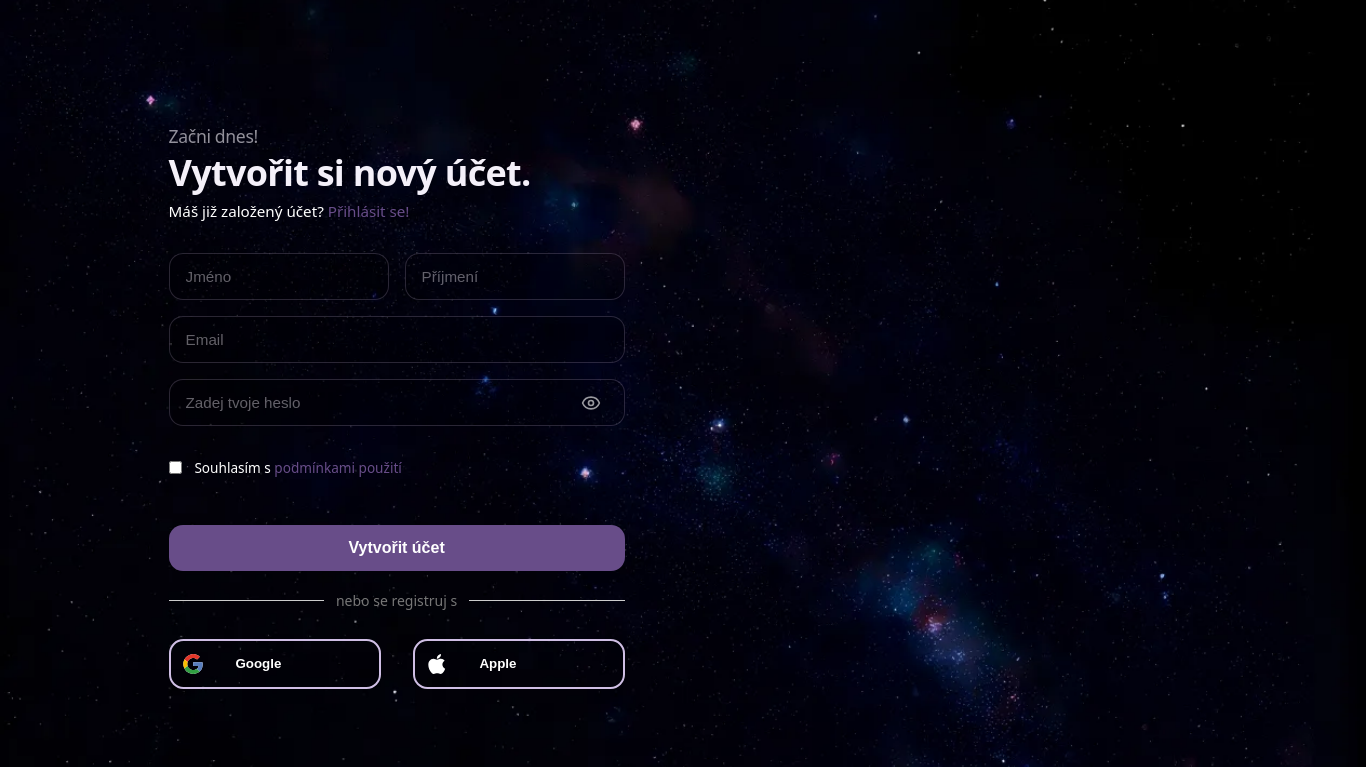
RegisterForm › shows error for invalid email
The image size is (1366, 767).
Type "Jan" into the field with placeholder "Jméno".
click(279, 277); type("Jan")  # box [169, 253, 389, 300]
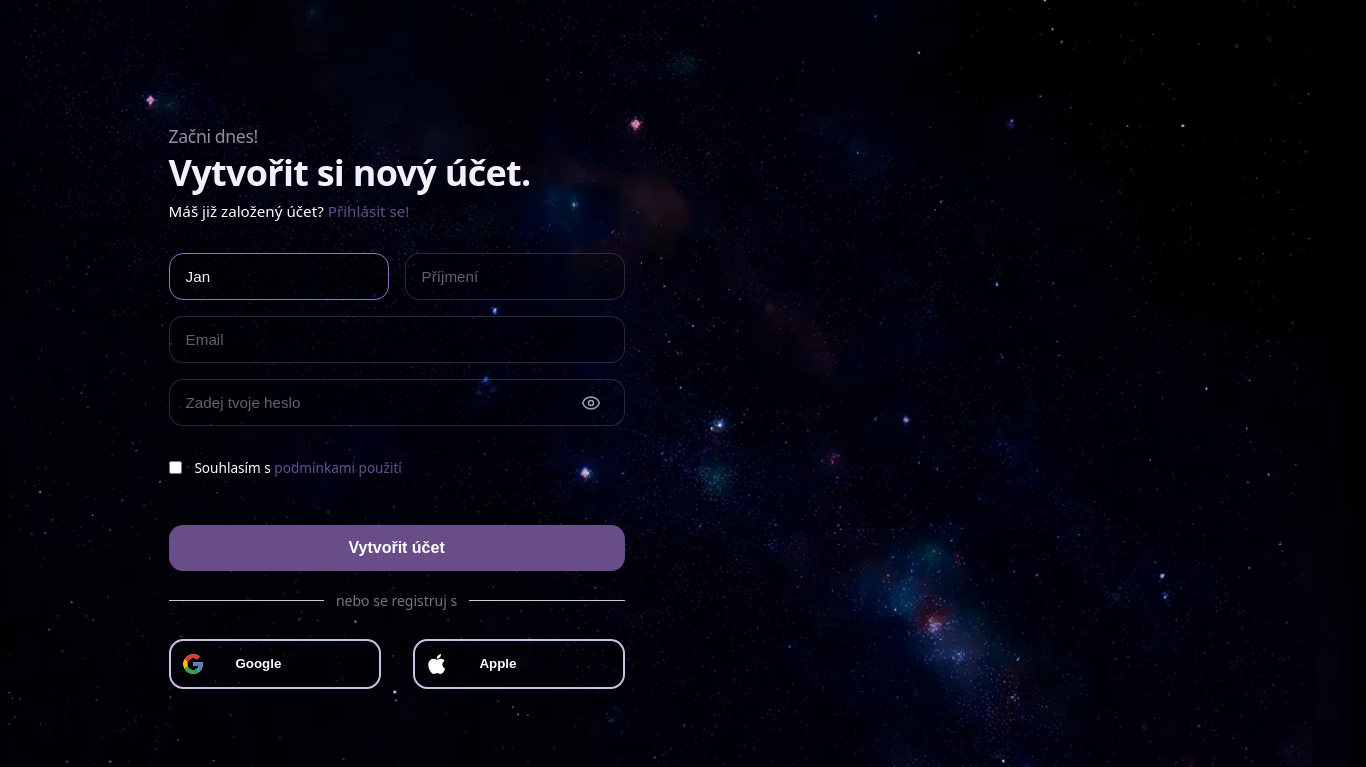
Type "Novák" into the field with placeholder "Příjmení".
click(515, 277); type("Novák")  # box [405, 253, 625, 300]
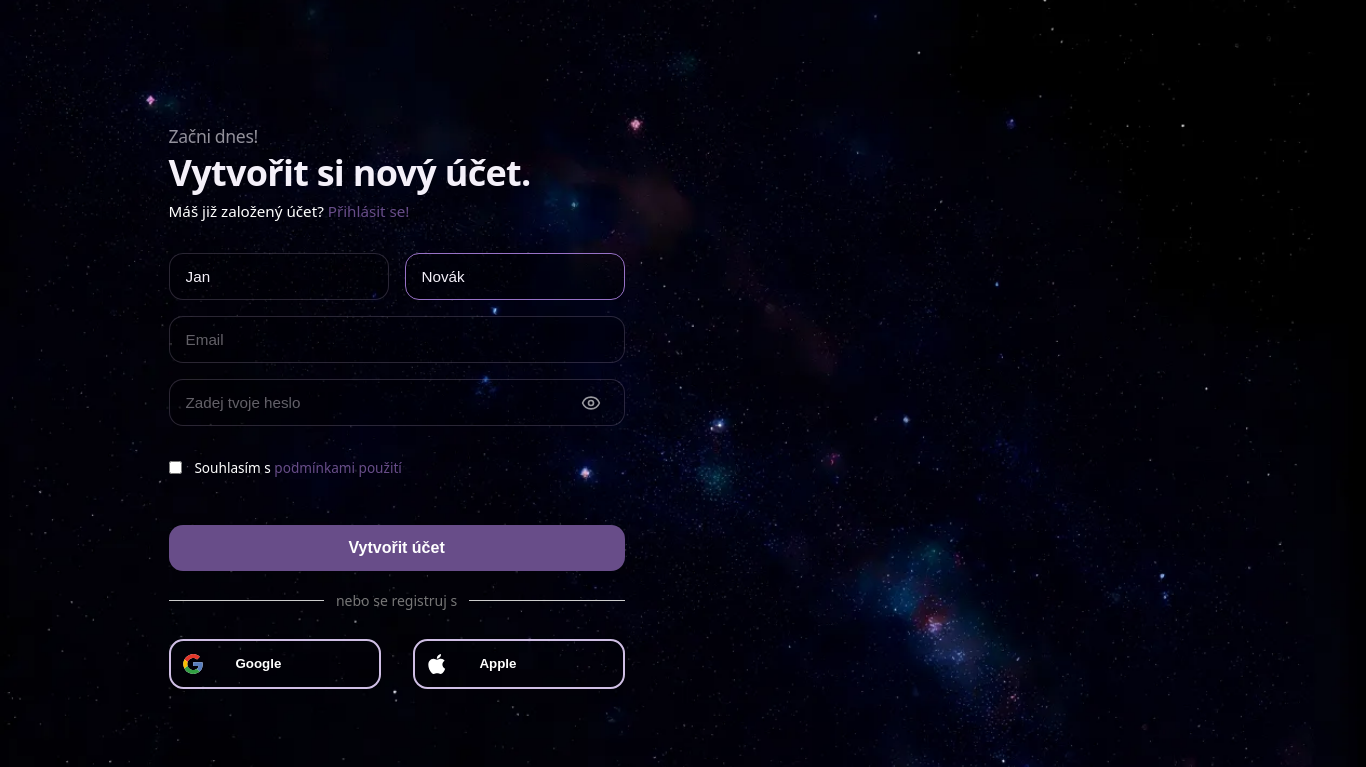
'user@domain' passes HTML5 email validation but fails our custom regex
Type "user@domain" into the field with placeholder "Email".
click(397, 340); type("user@domain")  # box [169, 316, 625, 363]
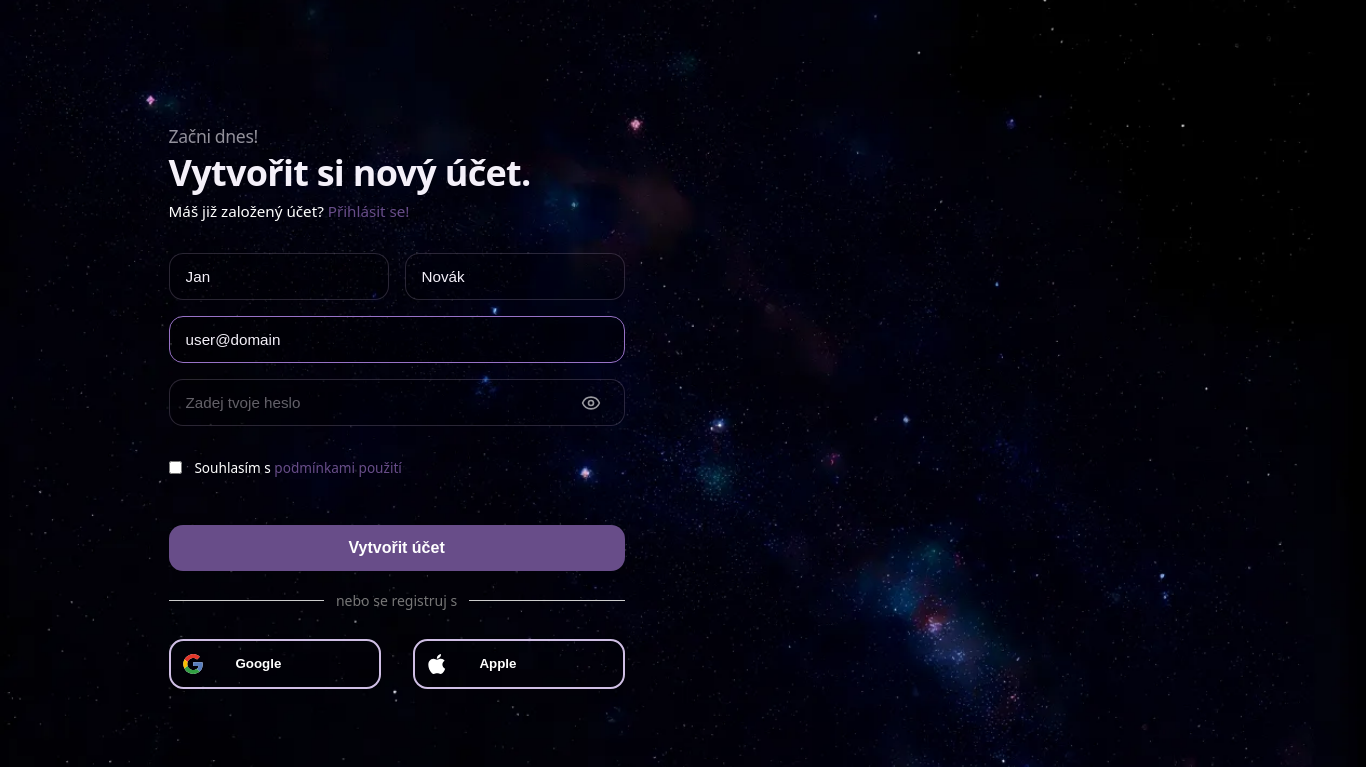
Type "Password1!" into the password field with placeholder "Zadej tvoje heslo".
click(397, 403); type("Password1!")  # box [169, 379, 625, 426]
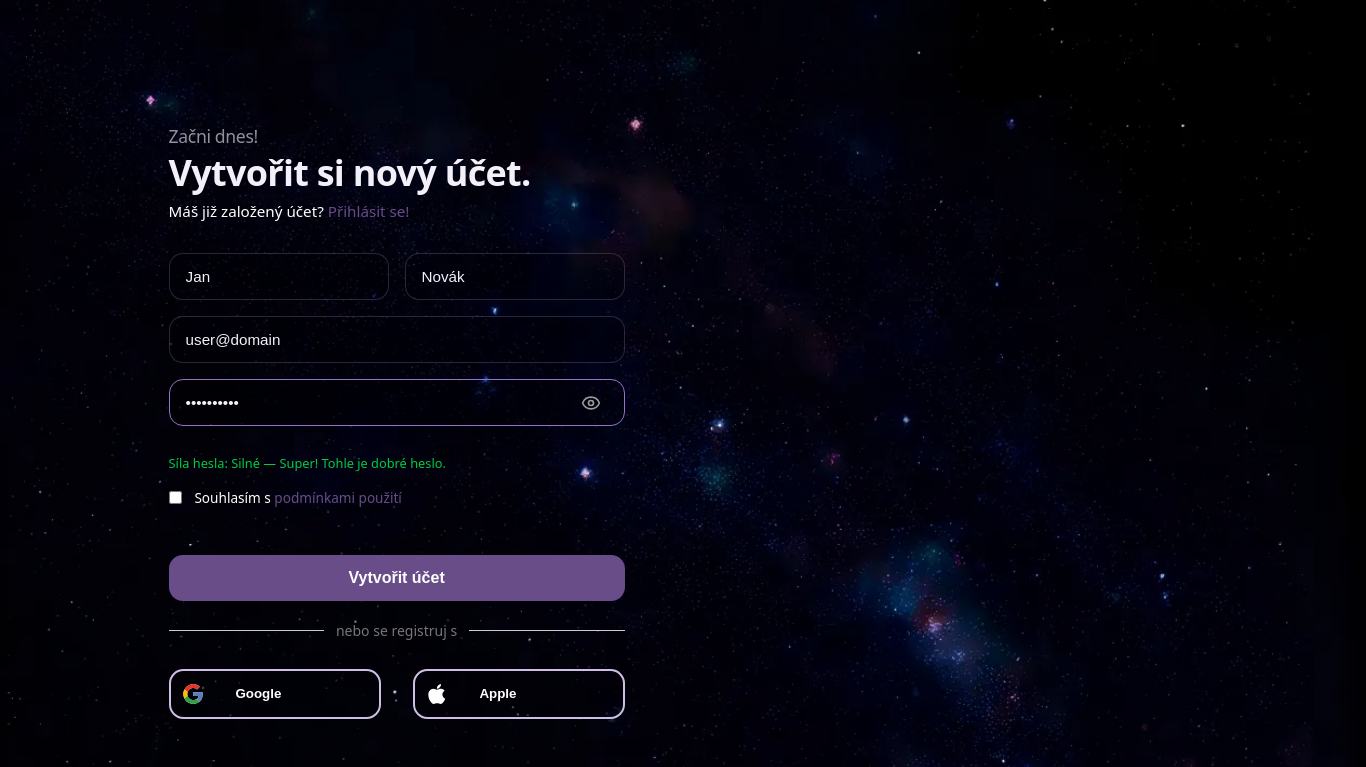
Click the checkbox labelled "Souhlasím s podmínkami použití".
click(175, 498)  # box [169, 491, 182, 504]
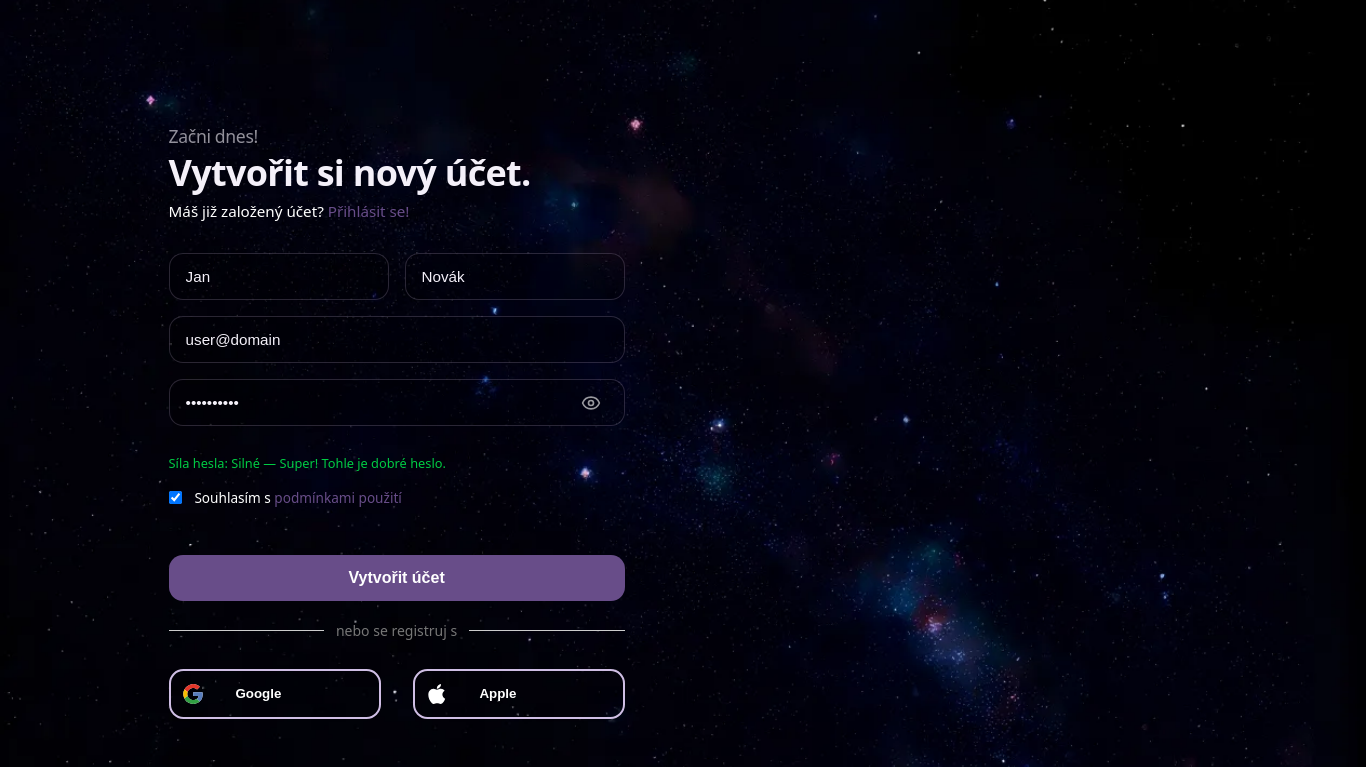
Click the button "Vytvořit účet".
click(397, 578)  # box [169, 555, 625, 601]
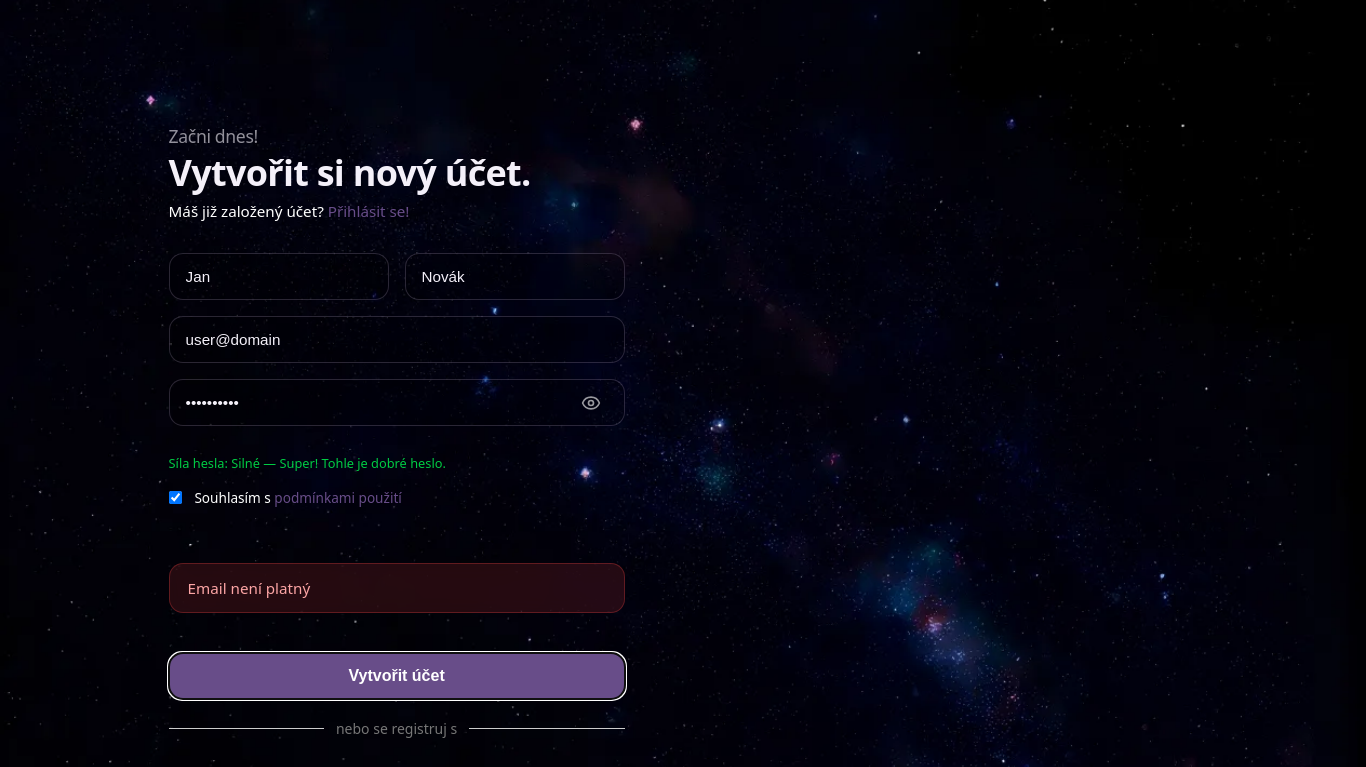
Expected: the message reads "Email není platný", [188, 578, 310, 598]
